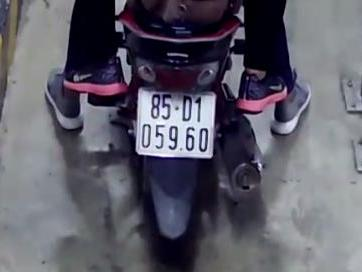num_plate: (135, 86, 214, 160)
